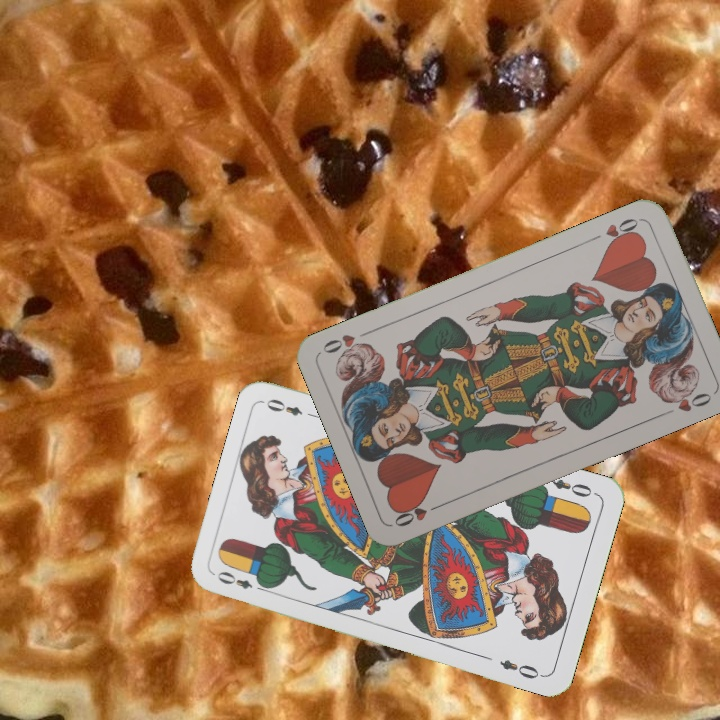EO: (213, 567, 270, 595), (548, 474, 600, 500)
HO: (587, 214, 642, 249), (390, 497, 447, 530)
